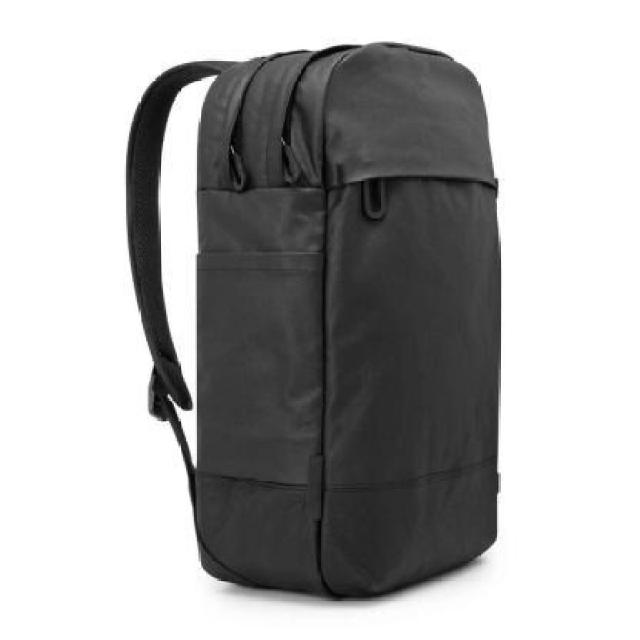backpack: (120, 35, 506, 608)
